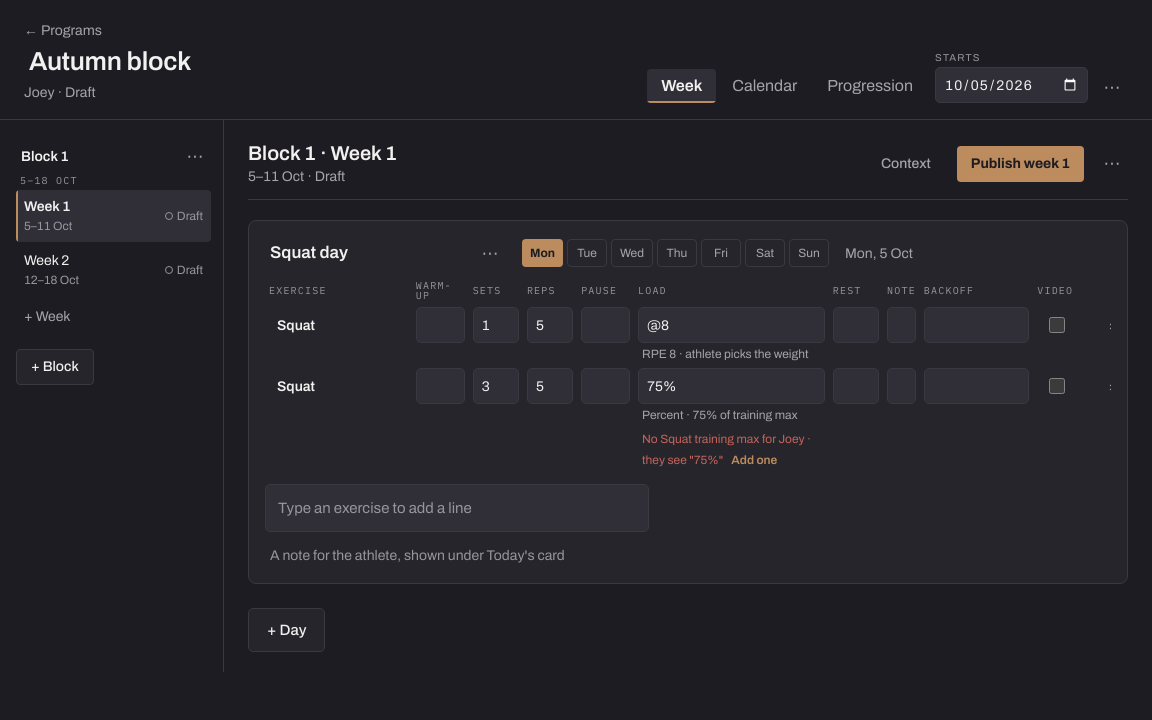
Test case: the kilos under every percentage › adds a missing max from beside the cell, then prices the line off it
Expected: the text "No Squat training max for Joey · they see \"75%\"" is shown, 642,432 -> 811,467
Click the button "Add one". click: (754, 460)
box: 727,451 -> 781,470
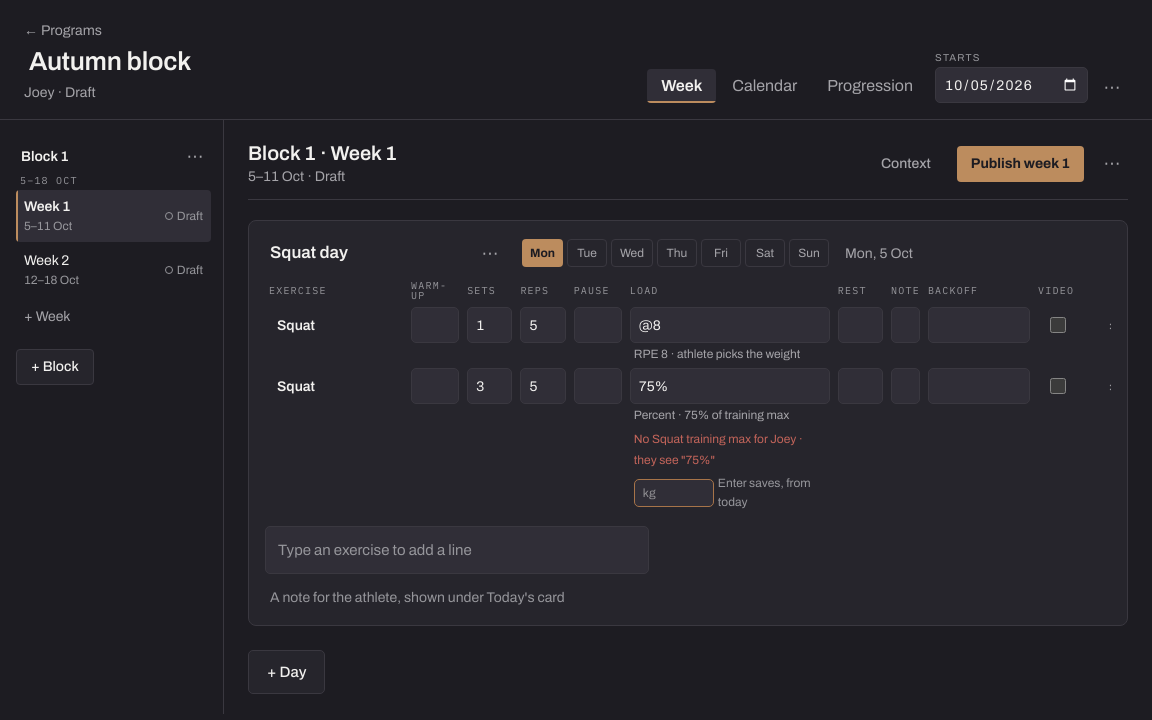
Type "180" into the field named "Squat training max, kg". click: (674, 493)
box: 634,479 -> 714,507
Then press Enter
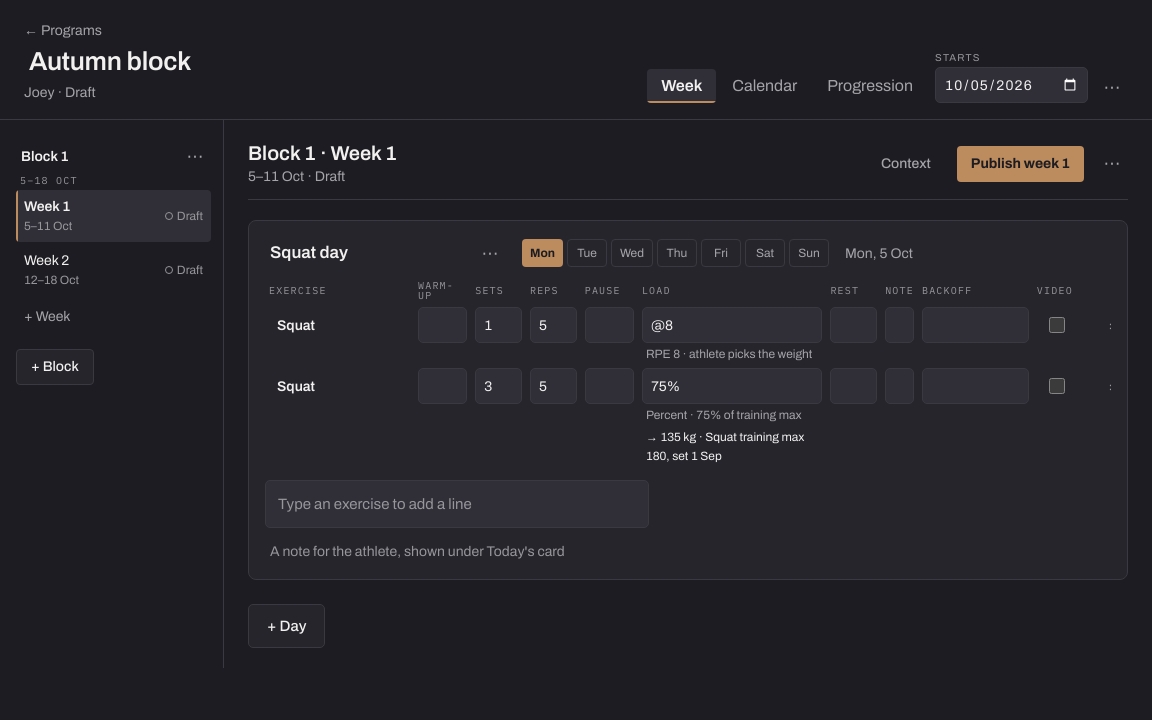
Result: the text "→ 135 kg · Squat training max 180, set 1 Sep" is shown at 646,428 -> 818,466
